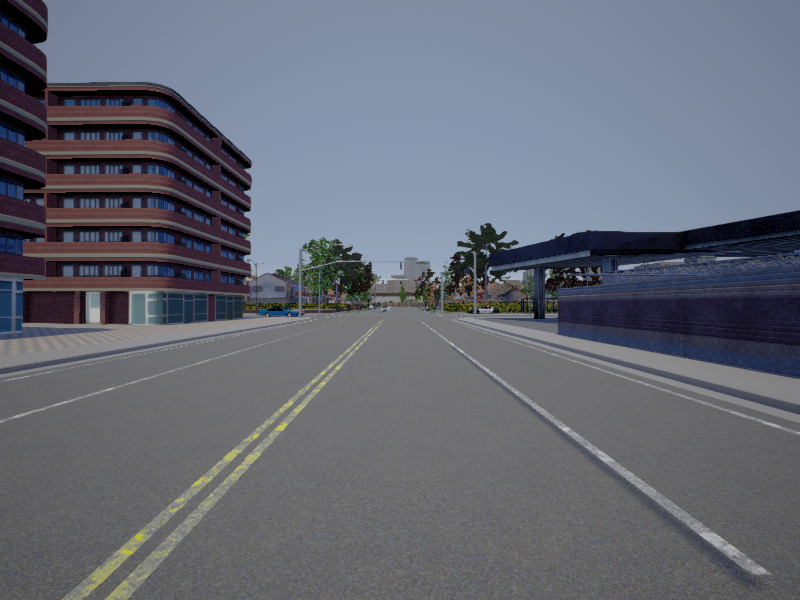benign: (257, 304, 303, 320), (467, 304, 501, 317), (379, 304, 389, 313)
